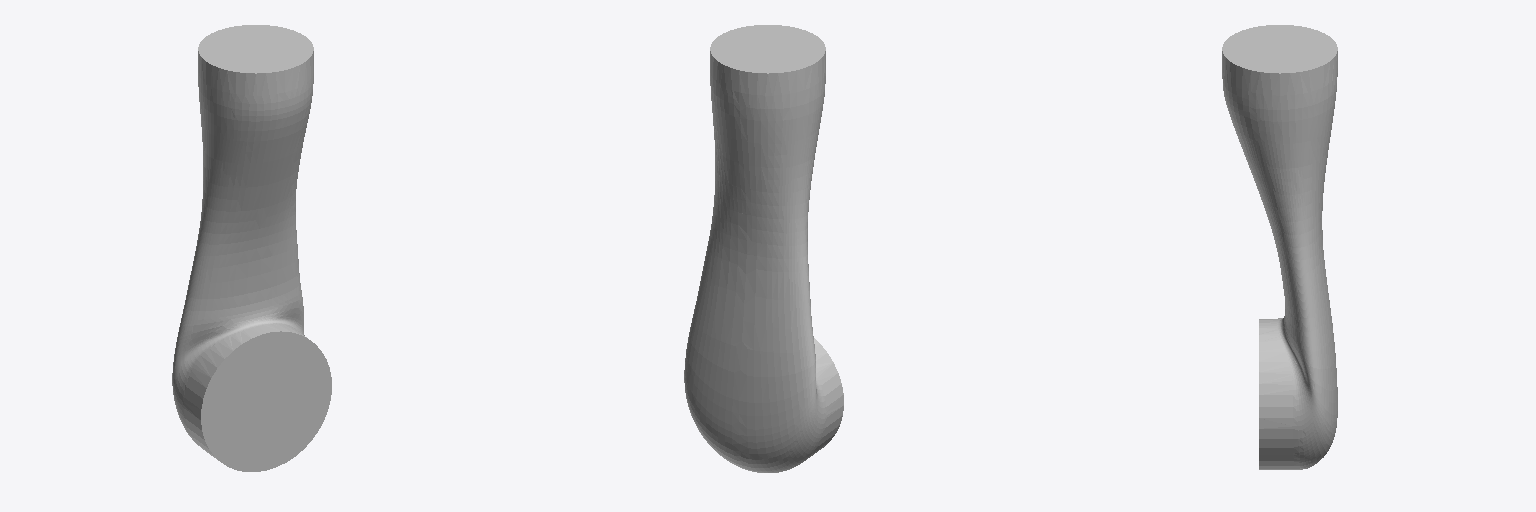
The model's file is j2n6s300_link_3_collisions_mesh_0.obj.
The picture shows the model from 3 angles: view 1: azimuth 30°, elevation 25°; view 2: azimuth 150°, elevation 25°; view 3: azimuth 270°, elevation 25°; orthographic projection.
Size of the model in its own units: 0.0825 by 0.2485 by 0.063.